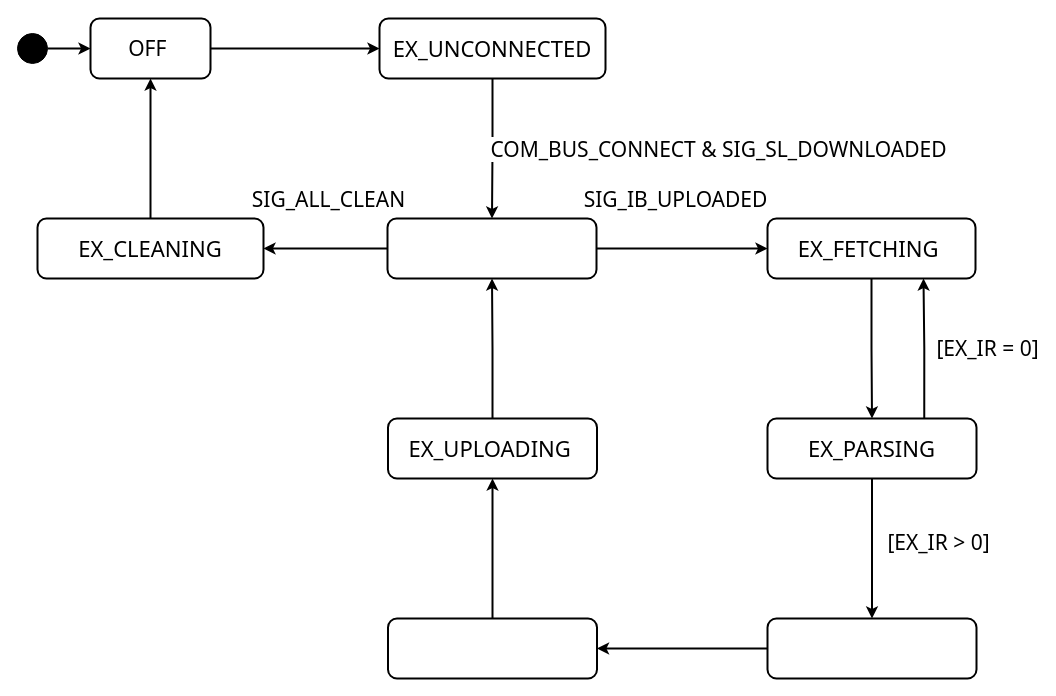
The diagram is 1056 pixels wide and 696 high, and some of its shapes have lost their labels. The shapes that lost their labels are listed below. From the top down, each one's box as (x1, y1, x2, y2) in pixels, then its label:
(386, 217, 597, 279): EX_CONNECTED
(386, 617, 598, 679): EX_WORKING
(766, 617, 977, 679): EX_DOWNLOADING
